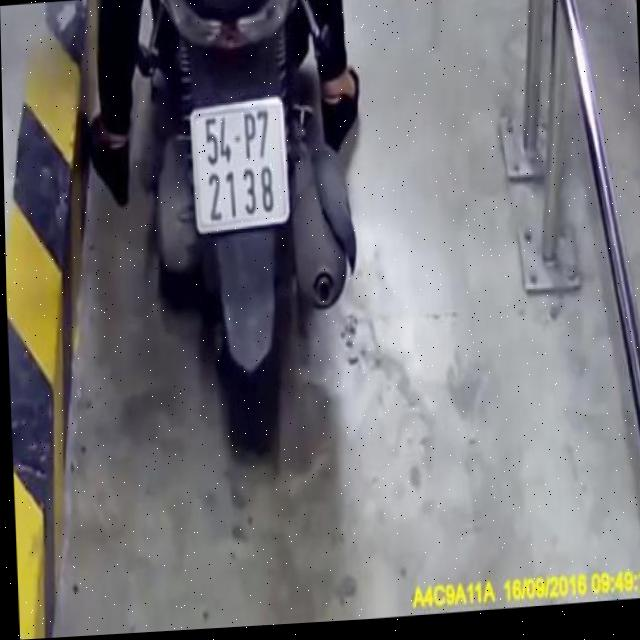motorcycle: (136, 0, 369, 478)
plate: (185, 95, 292, 232)
